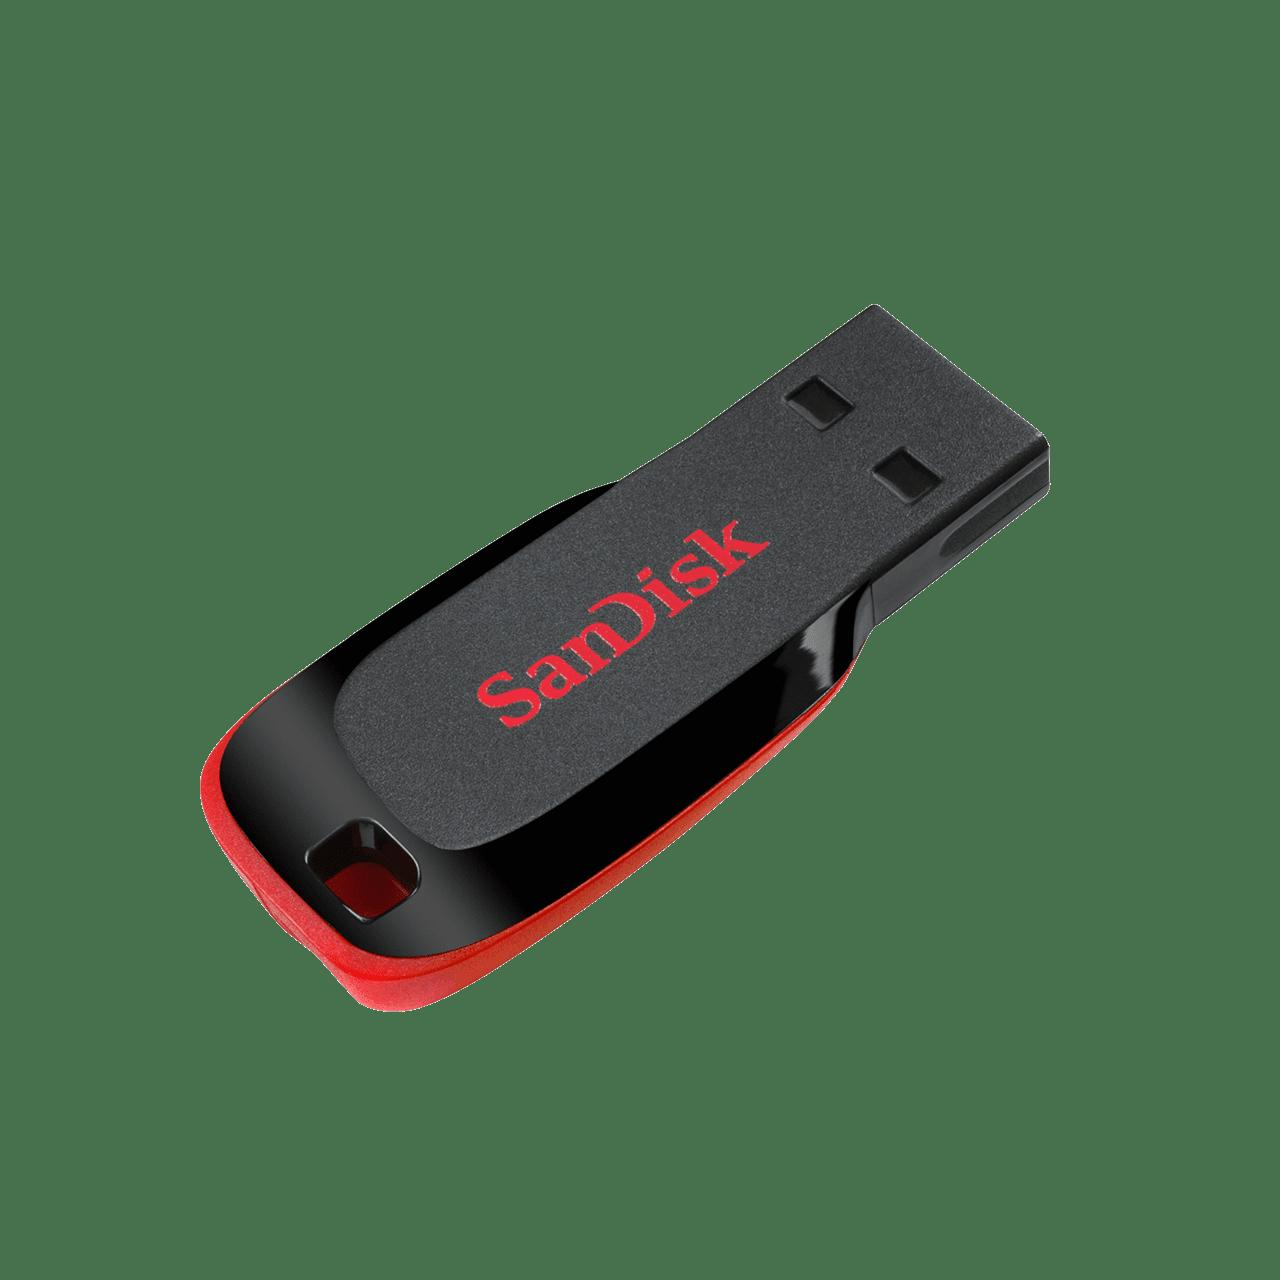USB Flash Drive: (197, 307, 1053, 1019)
